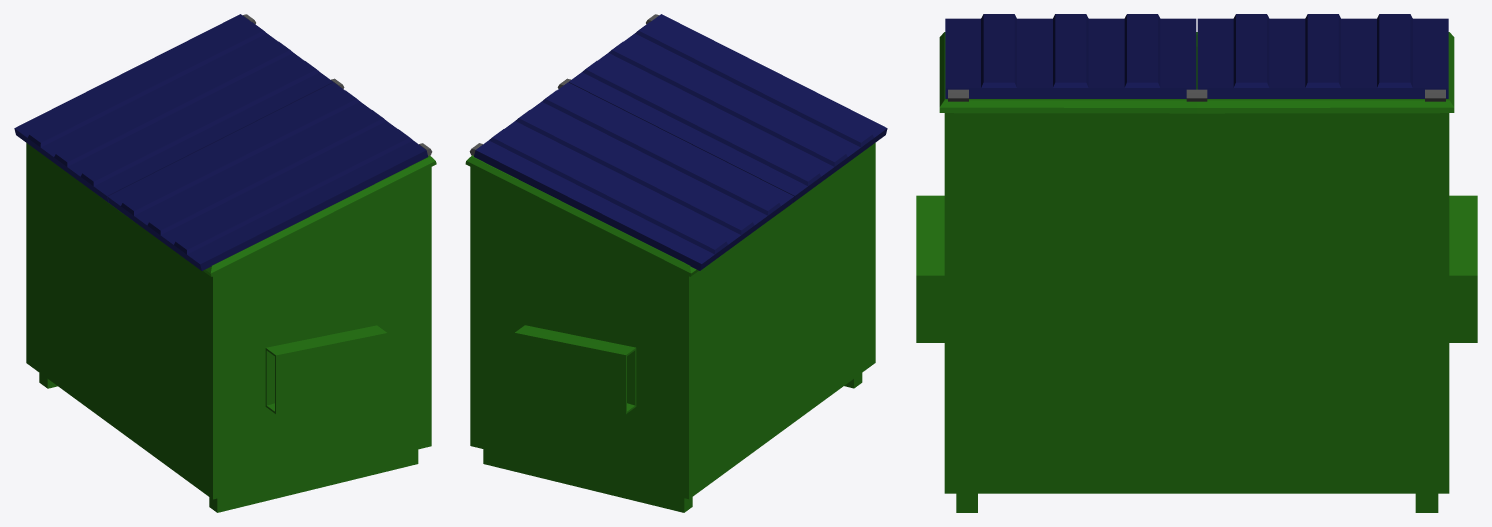
File: Dumpster.FBX
The picture shows the model from 3 angles, left to right: view 1: azimuth 30°, elevation 25°; view 2: azimuth 150°, elevation 25°; view 3: azimuth 270°, elevation 25°; orthographic projection. The views are drawn at different scales.
Visible parts, largest first — view 1: Dumpster, Lid2, Lid1; view 2: Dumpster, Lid1, Lid2; view 3: Dumpster, Lid2, Lid1.
Part boxes in pixels (bbox=[...]): Dumpster: bbox=[26, 14, 436, 512]; Lid2: bbox=[107, 82, 428, 270]; Lid1: bbox=[14, 14, 333, 202]; Dumpster: bbox=[465, 14, 875, 512]; Lid1: bbox=[474, 82, 794, 270]; Lid2: bbox=[568, 14, 887, 202]; Dumpster: bbox=[916, 32, 1477, 512]; Lid2: bbox=[945, 14, 1196, 98]; Lid1: bbox=[1197, 14, 1448, 98].
Bounding box in the file's own units: 131 × 170 × 200.
